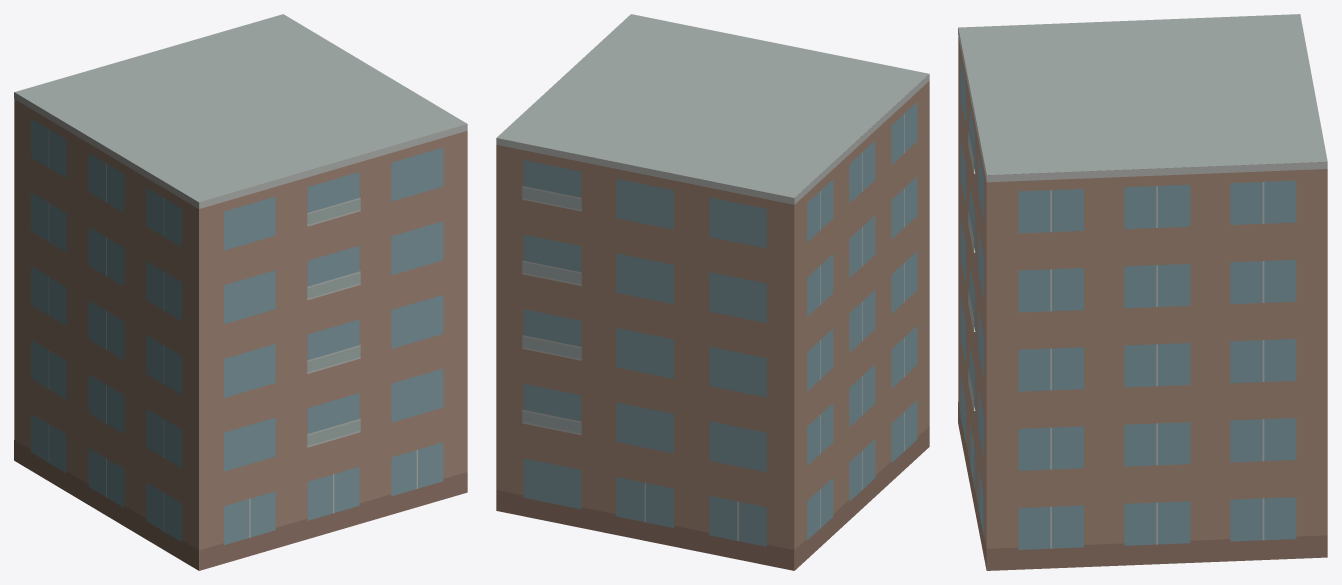
The model's file is survey-upis-32978310.glb.
The picture shows the model from 3 angles, left to right: view 1: azimuth 30°, elevation 25°; view 2: azimuth 150°, elevation 25°; view 3: azimuth 270°, elevation 25°; orthographic projection. The views are drawn at different scales.
Parts seen in each view (by area): view 1: survey-upis-32978310.tmp; view 2: survey-upis-32978310.tmp; view 3: survey-upis-32978310.tmp.
Part boxes in pixels (box(x1,y1,x2,y2)): survey-upis-32978310.tmp: box(14, 14, 467, 570); survey-upis-32978310.tmp: box(496, 14, 929, 570); survey-upis-32978310.tmp: box(958, 14, 1327, 570).
Bounding box in the file's own units: 11.71 × 13.4 × 11.35.
